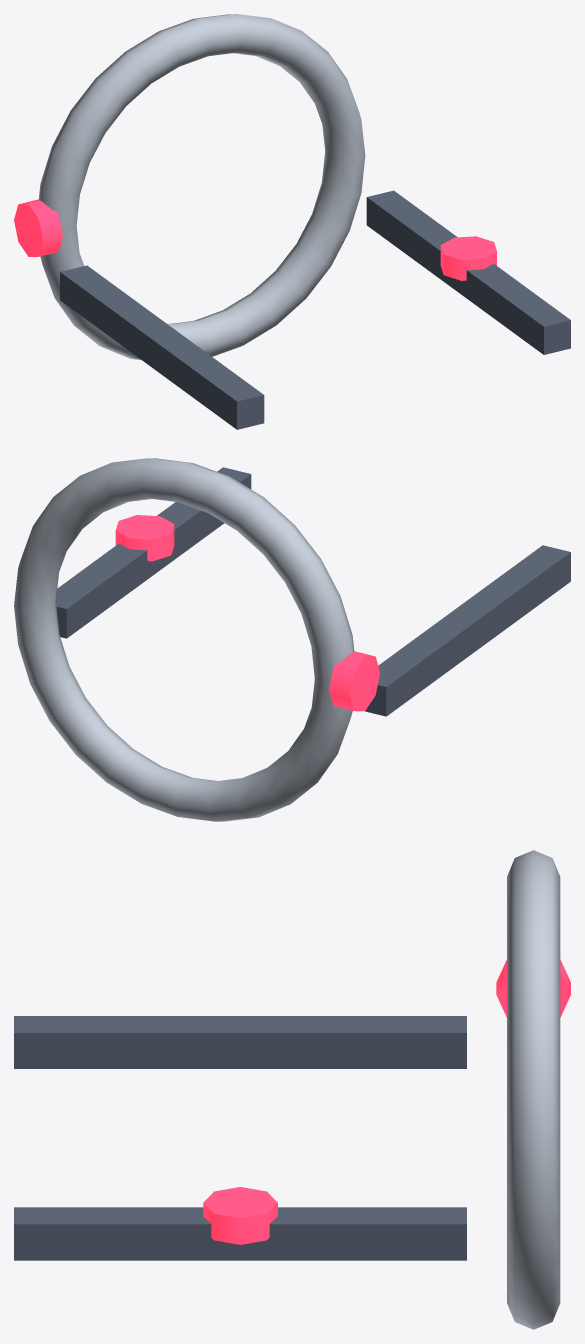
The model's file is tower_filament_peak_s3.glb.
3 views of the same model, one above another, from view 1: azimuth 30°, elevation 25°; view 2: azimuth 150°, elevation 25°; view 3: azimuth 270°, elevation 25° (orthographic). The views are drawn at different scales.
Parts seen in each view (by area): view 1: filament_aperture_ring, filament_lens_brace_r, filament_lens_brace_l, filament_up_peak_l3_stud, filament_up_peak_l2_stud; view 2: filament_aperture_ring, filament_lens_brace_r, filament_lens_brace_l, filament_up_peak_l3_stud, filament_up_peak_l2_stud; view 3: filament_aperture_ring, filament_lens_brace_r, filament_lens_brace_l, filament_up_peak_l2_stud, filament_up_peak_l3_stud.
Part boxes in pixels (left/top/right/bottom): filament_aperture_ring: left=38, top=14, right=365, bottom=360; filament_lens_brace_r: left=60, top=265, right=264, bottom=429; filament_lens_brace_l: left=366, top=190, right=570, bottom=354; filament_up_peak_l3_stud: left=14, top=199, right=62, bottom=256; filament_up_peak_l2_stud: left=440, top=236, right=496, bottom=280; filament_aperture_ring: left=14, top=458, right=354, bottom=821; filament_lens_brace_r: left=365, top=545, right=570, bottom=716; filament_lens_brace_l: left=56, top=467, right=251, bottom=638; filament_up_peak_l3_stud: left=329, top=651, right=379, bottom=711; filament_up_peak_l2_stud: left=115, top=515, right=174, bottom=561; filament_aperture_ring: left=507, top=850, right=560, bottom=1329; filament_lens_brace_r: left=14, top=1016, right=466, bottom=1068; filament_lens_brace_l: left=14, top=1207, right=466, bottom=1260; filament_up_peak_l2_stud: left=203, top=1187, right=277, bottom=1244; filament_up_peak_l3_stud: left=496, top=959, right=570, bottom=1017.
Size of the model in its own units: 0.389 by 0.36 by 0.418.
